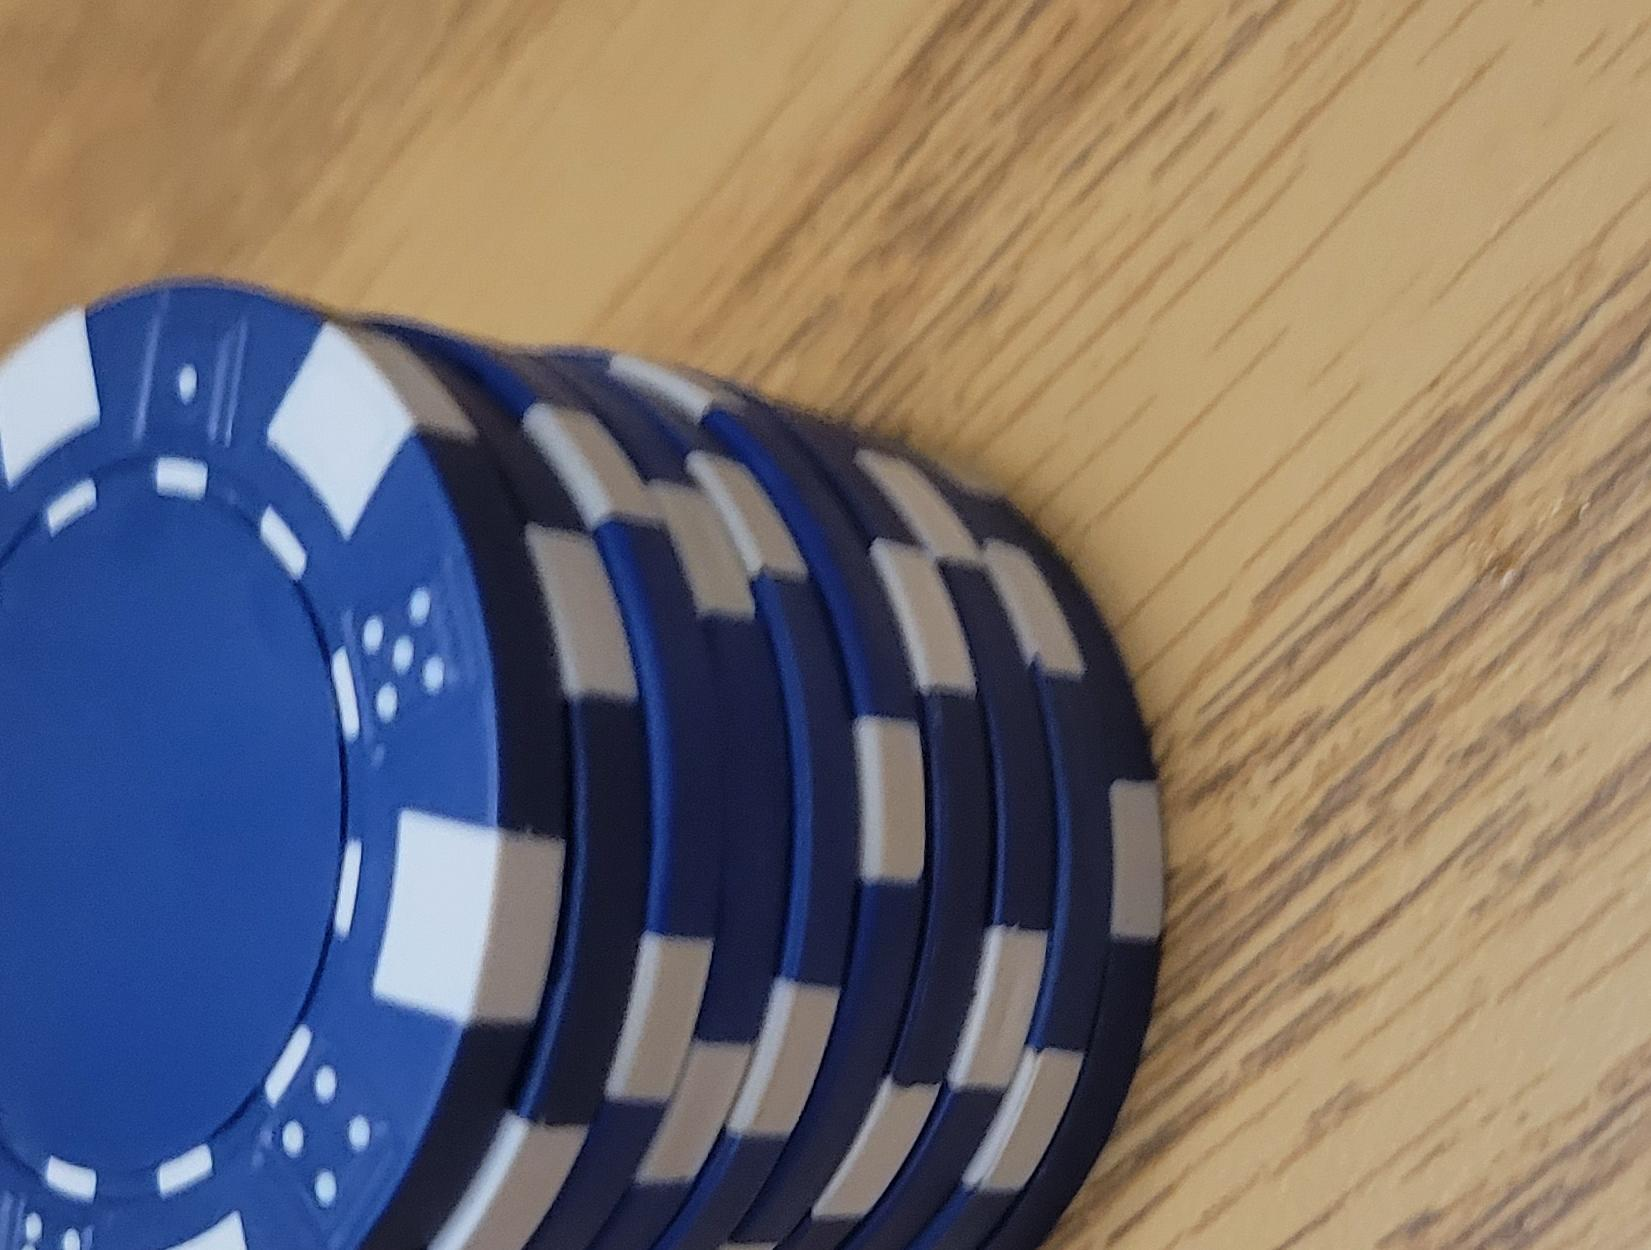Chip: (1, 226, 932, 1250)
